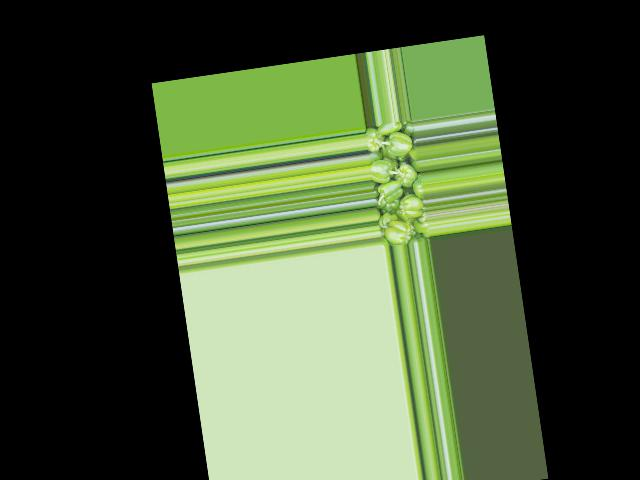bell_pepper: (366, 120, 430, 247)
